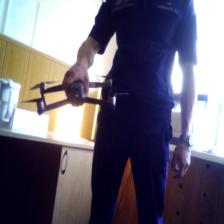drone: (22, 69, 132, 119)
